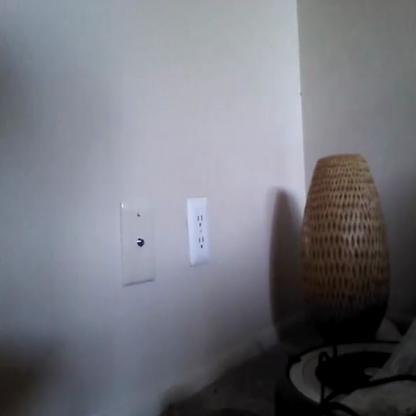OUTLET: (186, 198, 209, 266)
